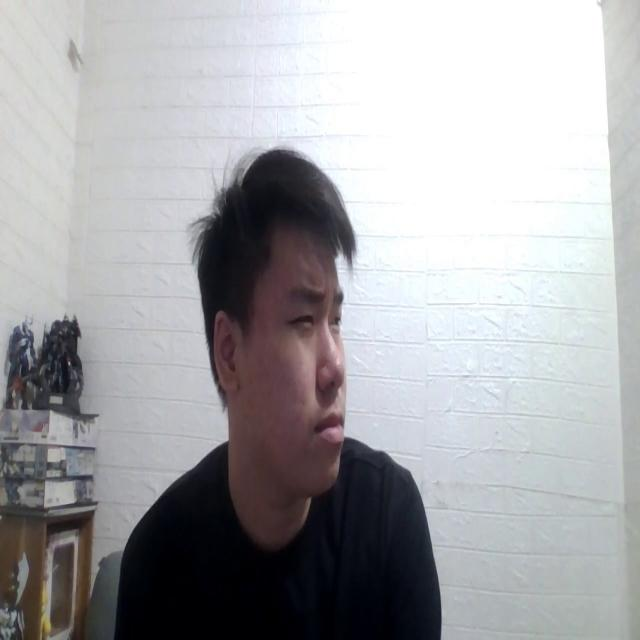student: (121, 143, 440, 640)
